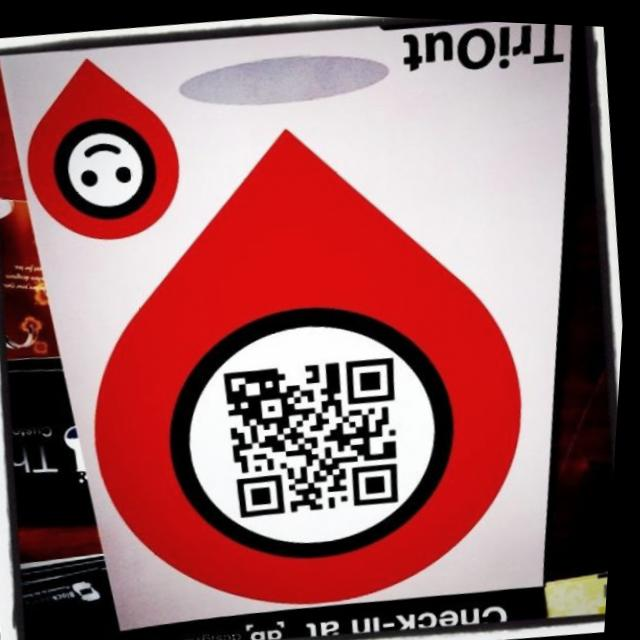qrcode: (220, 348, 415, 522)
